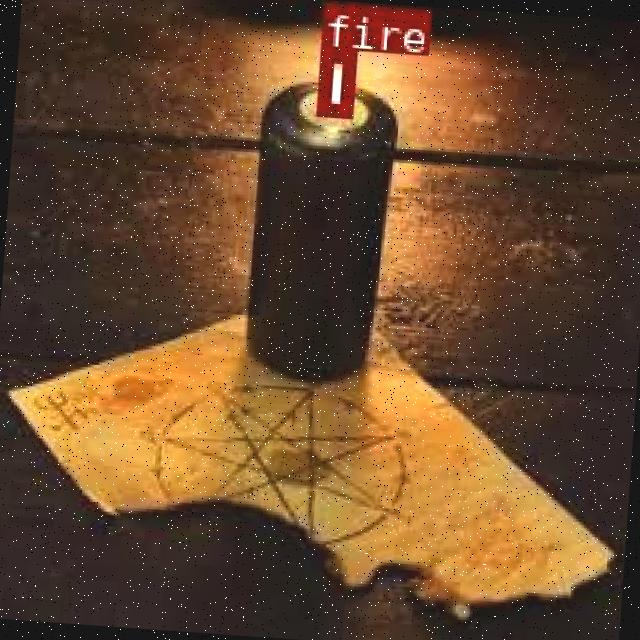fire: (314, 48, 352, 114)
